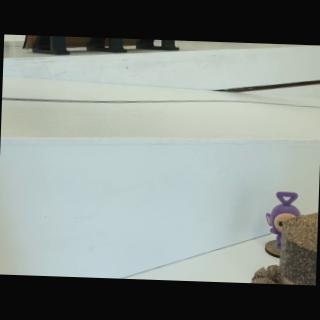teletubby: (266, 192, 301, 250)
